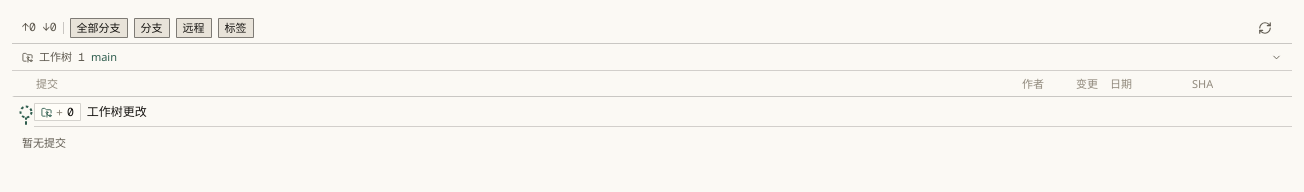
Test: GitView 工作树列表 › 正常的工作树仍提供切换入口
The width and height of the screenshot is (1304, 192).
Click the button "工作树 1 main" at (56, 57), box x1=12 y1=44 x2=1292 y2=71
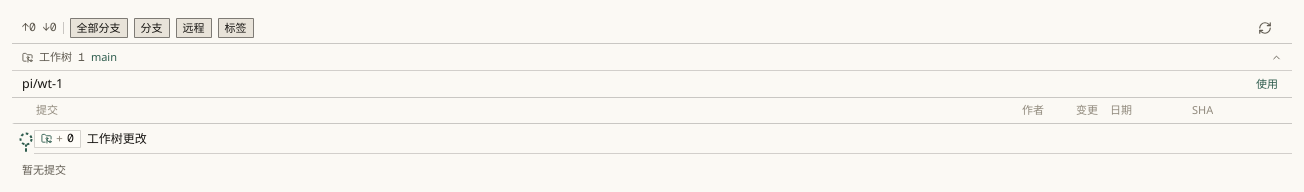
Result: the button "使用" is shown at x1=1252 y1=76 x2=1282 y2=91
